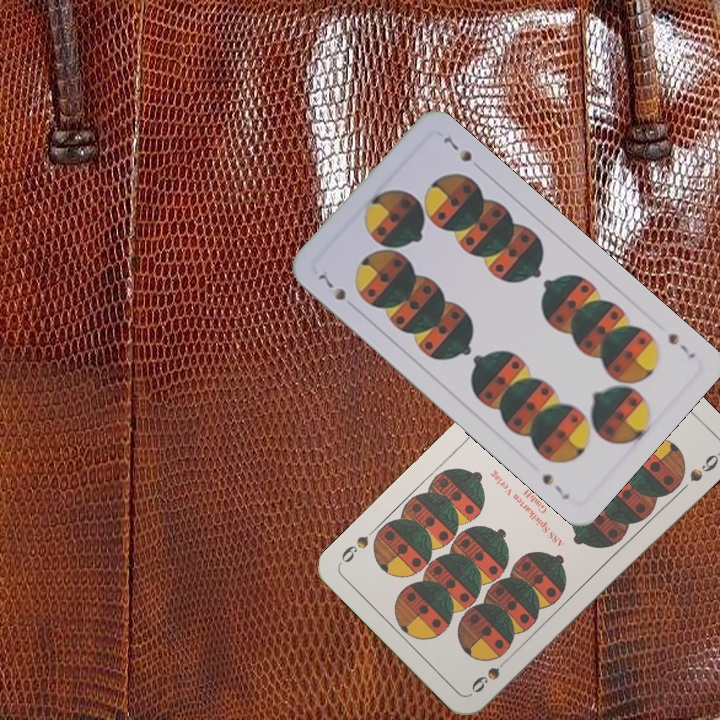S7: (313, 269, 349, 303), (664, 329, 699, 361)
S9: (467, 661, 505, 696)
